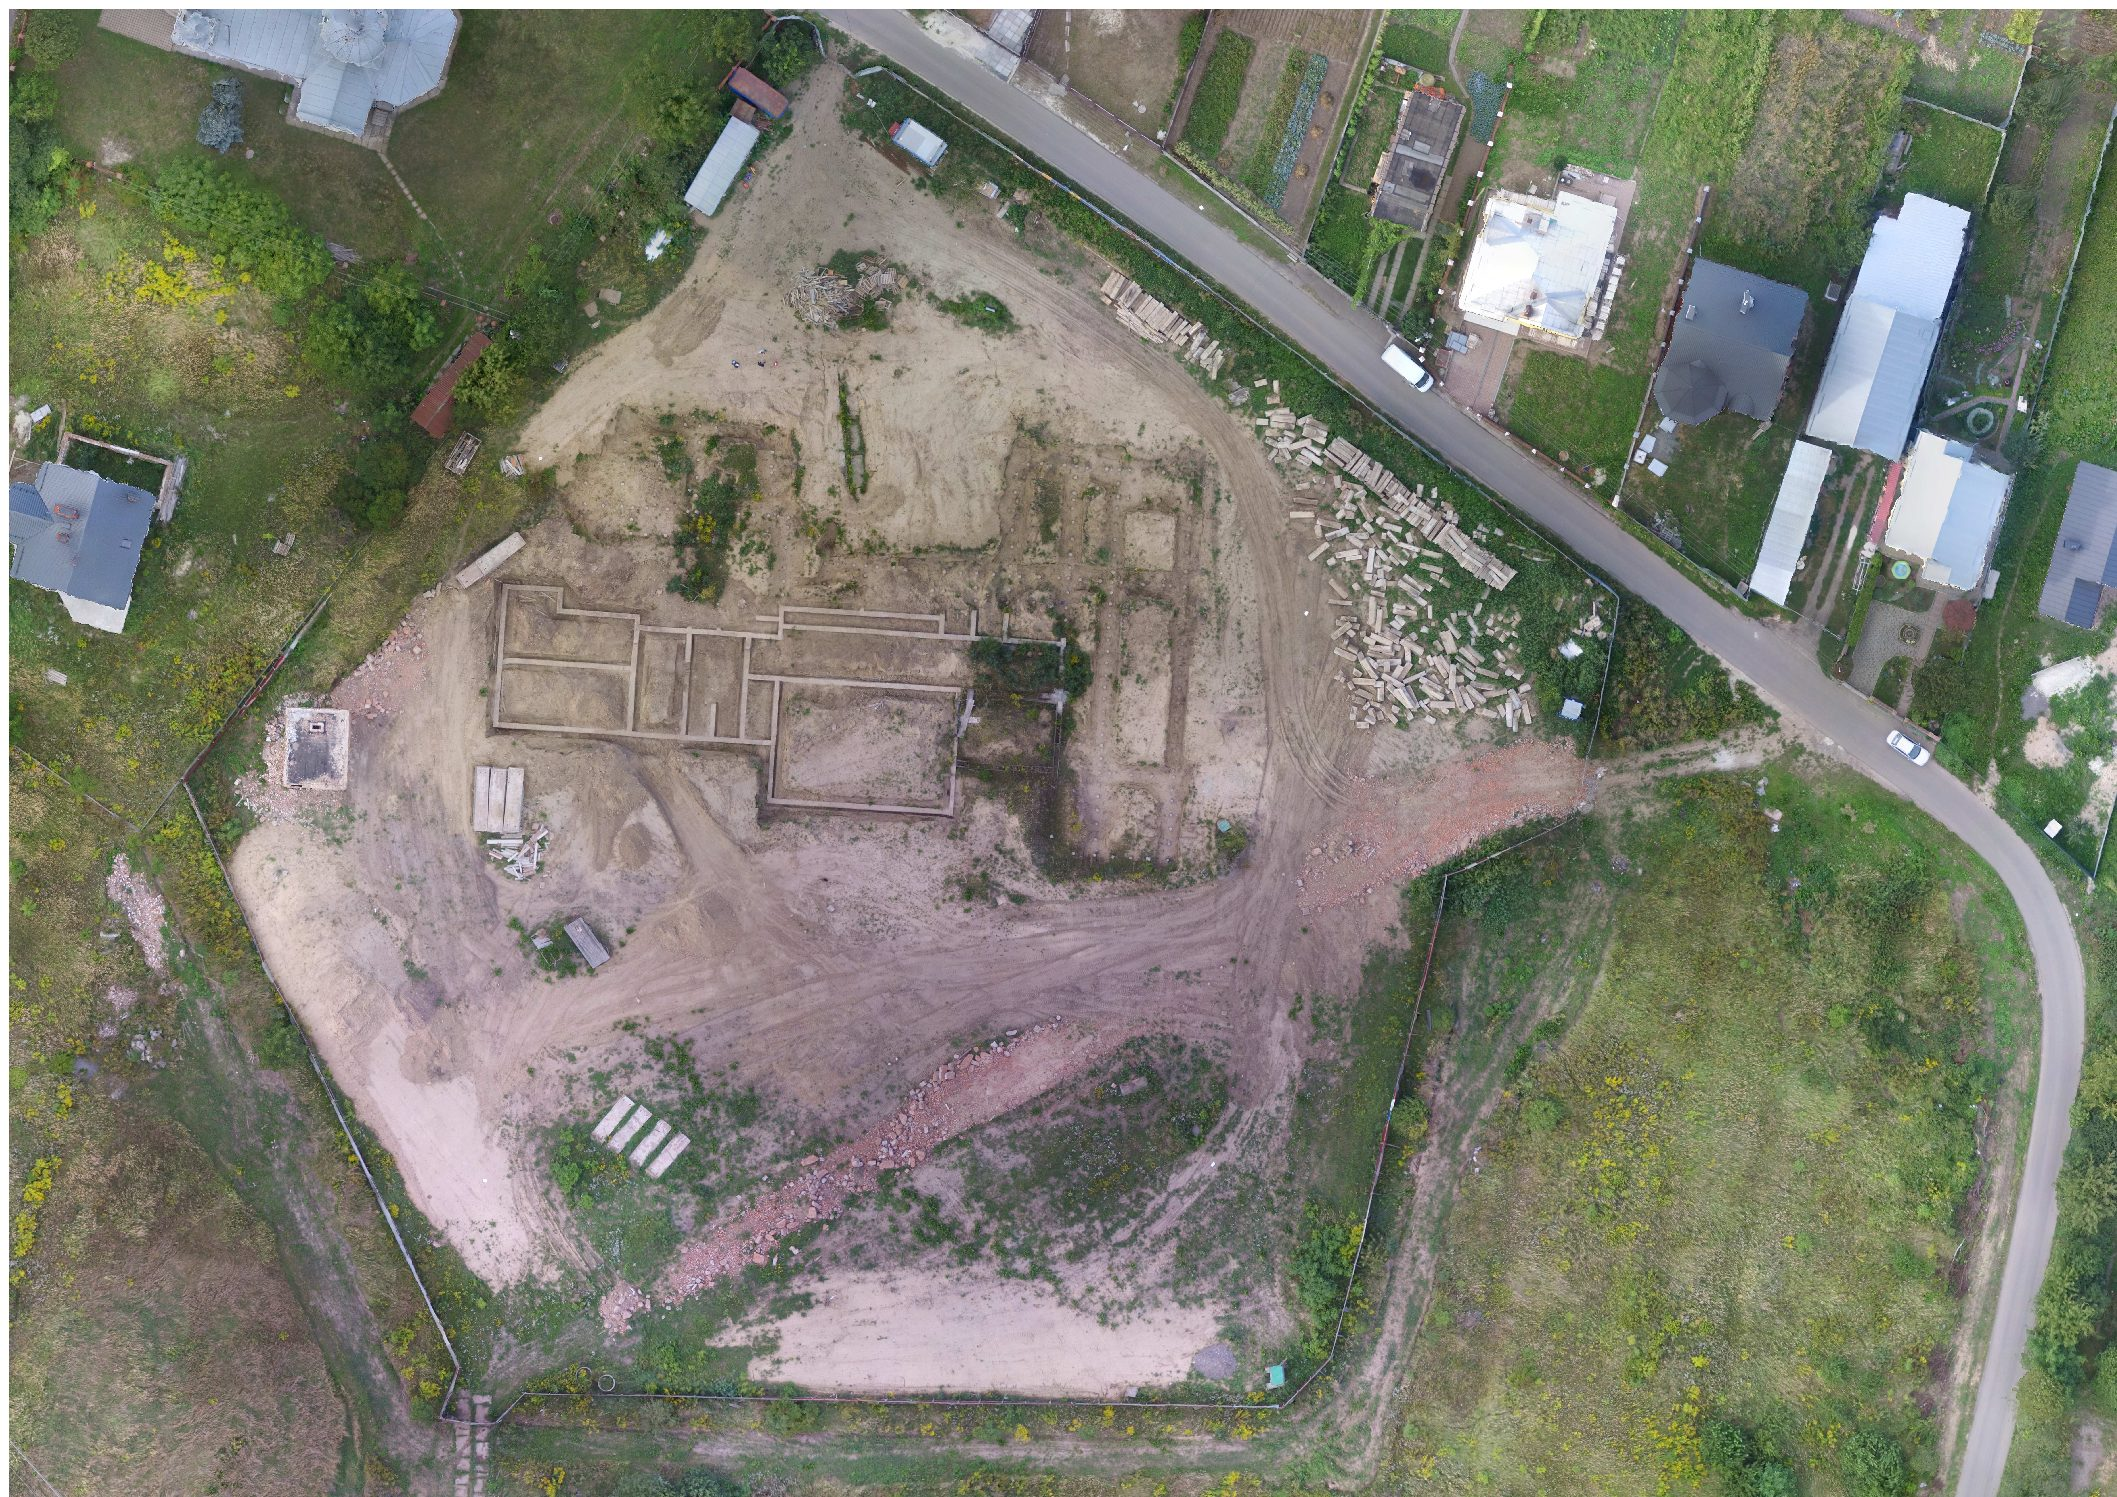build: (1804, 186, 1983, 471), (165, 2, 479, 144), (1651, 253, 1811, 436), (1879, 421, 2017, 621), (2, 463, 164, 611), (2036, 449, 2117, 637), (1374, 71, 1464, 238)
